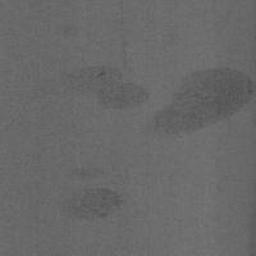Oil spot: (138, 65, 256, 143), (50, 64, 152, 113), (59, 165, 131, 221), (54, 20, 77, 40)
